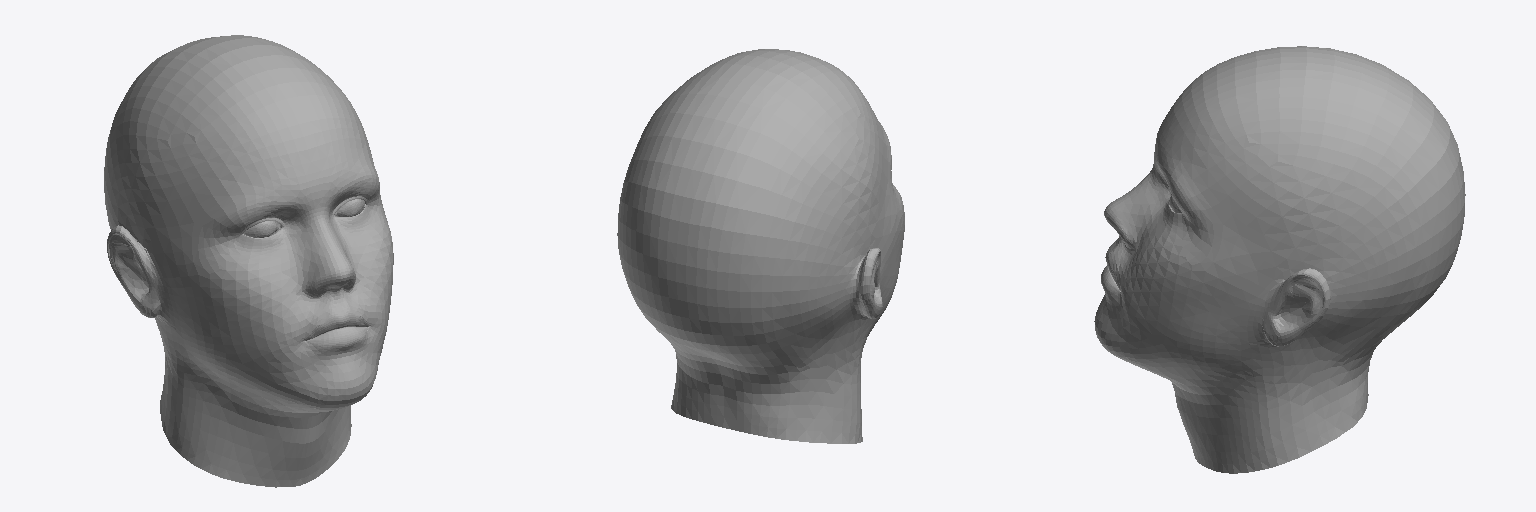
Rendered from GoodBieber.obj.
3 views of the same model, side by side, from view 1: azimuth 30°, elevation 25°; view 2: azimuth 150°, elevation 25°; view 3: azimuth 270°, elevation 25° (orthographic).
Parts seen in each view (by area): view 1: FaceGen; view 2: FaceGen; view 3: FaceGen.
Boxes of the visible parts, x1=… form: FaceGen: x1=104, y1=35, x2=393, y2=487; FaceGen: x1=617, y1=49, x2=904, y2=443; FaceGen: x1=1094, y1=46, x2=1465, y2=473.
Bounding box in the file's own units: 187 × 281 × 238.